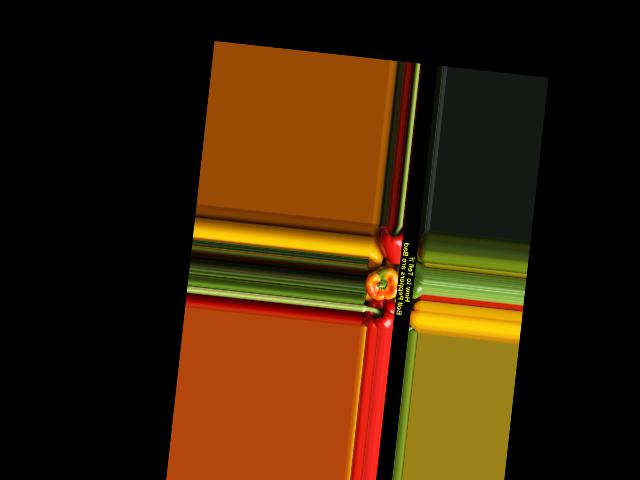bell_pepper: (360, 295, 398, 329)
